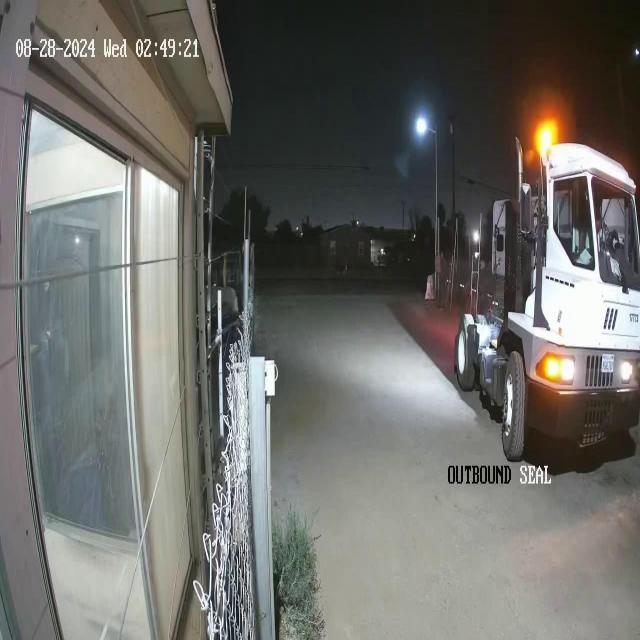TRUCK_IN: (453, 132, 639, 463)
